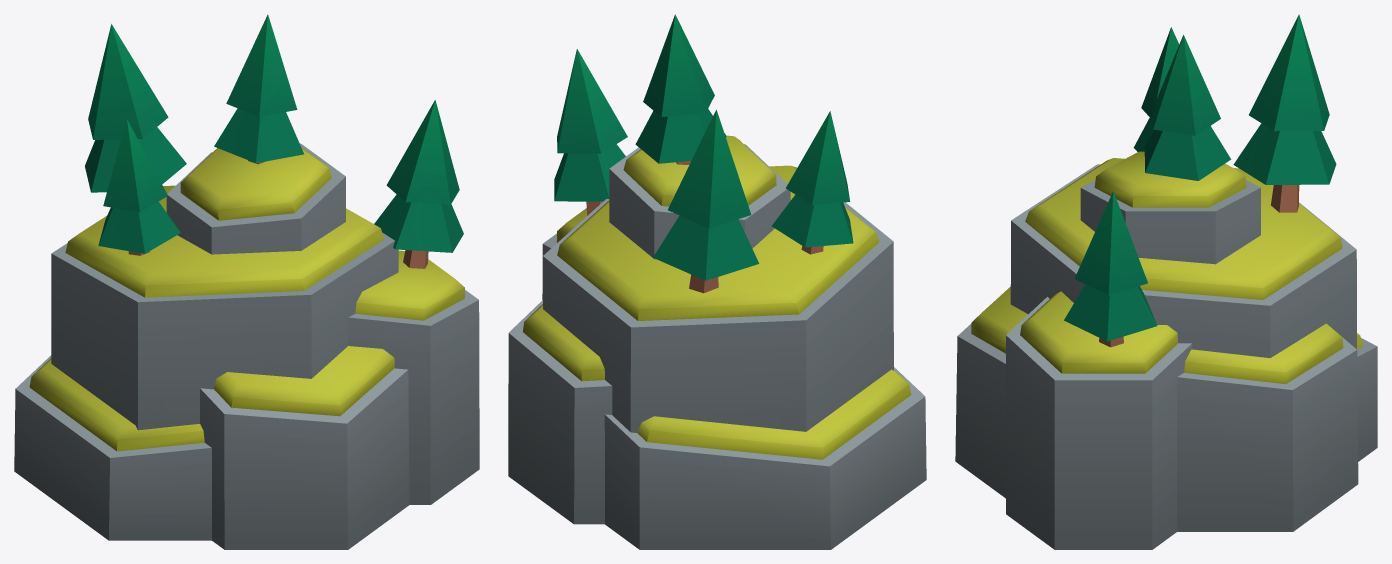
File: mountain-a-trees.glb
3 views of the same model, side by side, from view 1: azimuth 30°, elevation 25°; view 2: azimuth 150°, elevation 25°; view 3: azimuth 270°, elevation 25° (orthographic).
Parts seen in each view (by area): view 1: mountain_A_grass_trees; view 2: mountain_A_grass_trees; view 3: mountain_A_grass_trees.
Part boxes in pixels (x1,y1,x2,y2): mountain_A_grass_trees: [14, 14, 479, 549]; mountain_A_grass_trees: [508, 14, 926, 549]; mountain_A_grass_trees: [955, 14, 1377, 549].
Bounding box in the file's own units: 1.86 × 2.18 × 1.88.
Materials: 1 (1 with a texture image).
